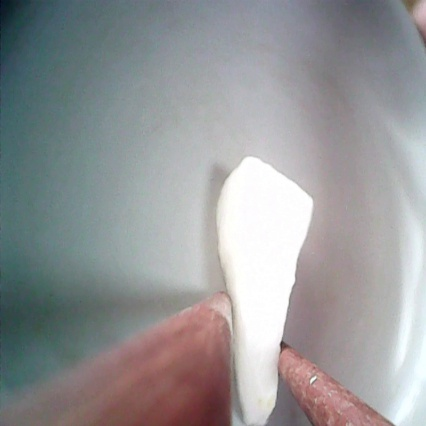white_chinese-yam: (208, 146, 318, 421)
